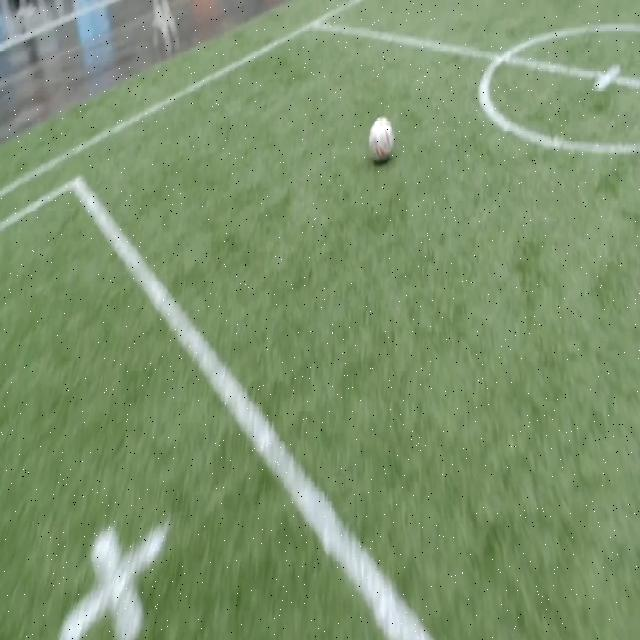ball: (369, 116, 394, 162)
